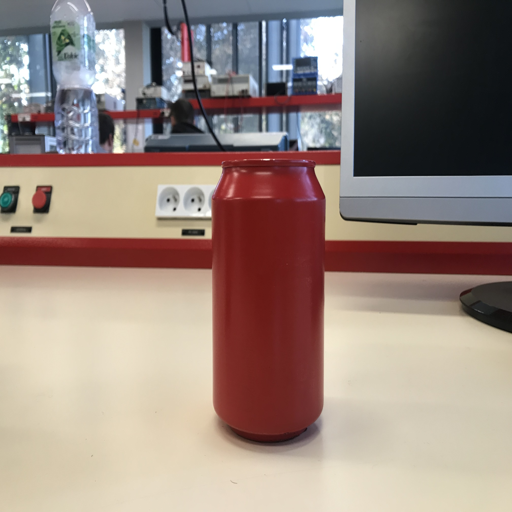Red_Can: (207, 156, 329, 445)
